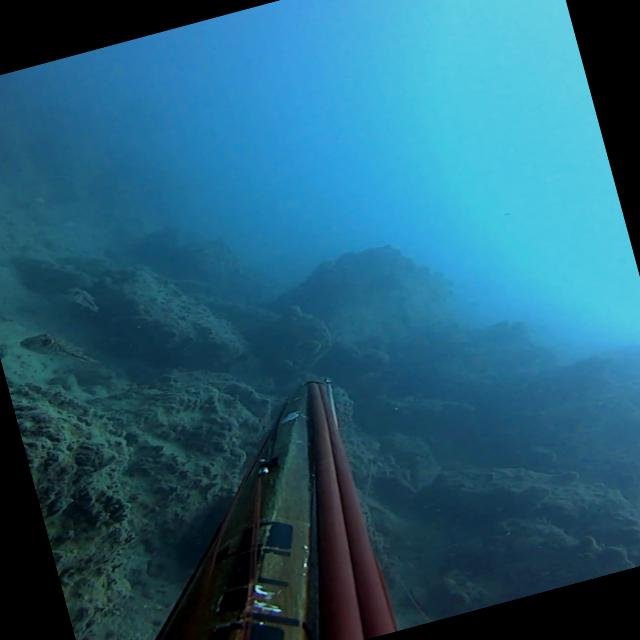Balon Baligi: (16, 320, 100, 382), (59, 282, 99, 320)
